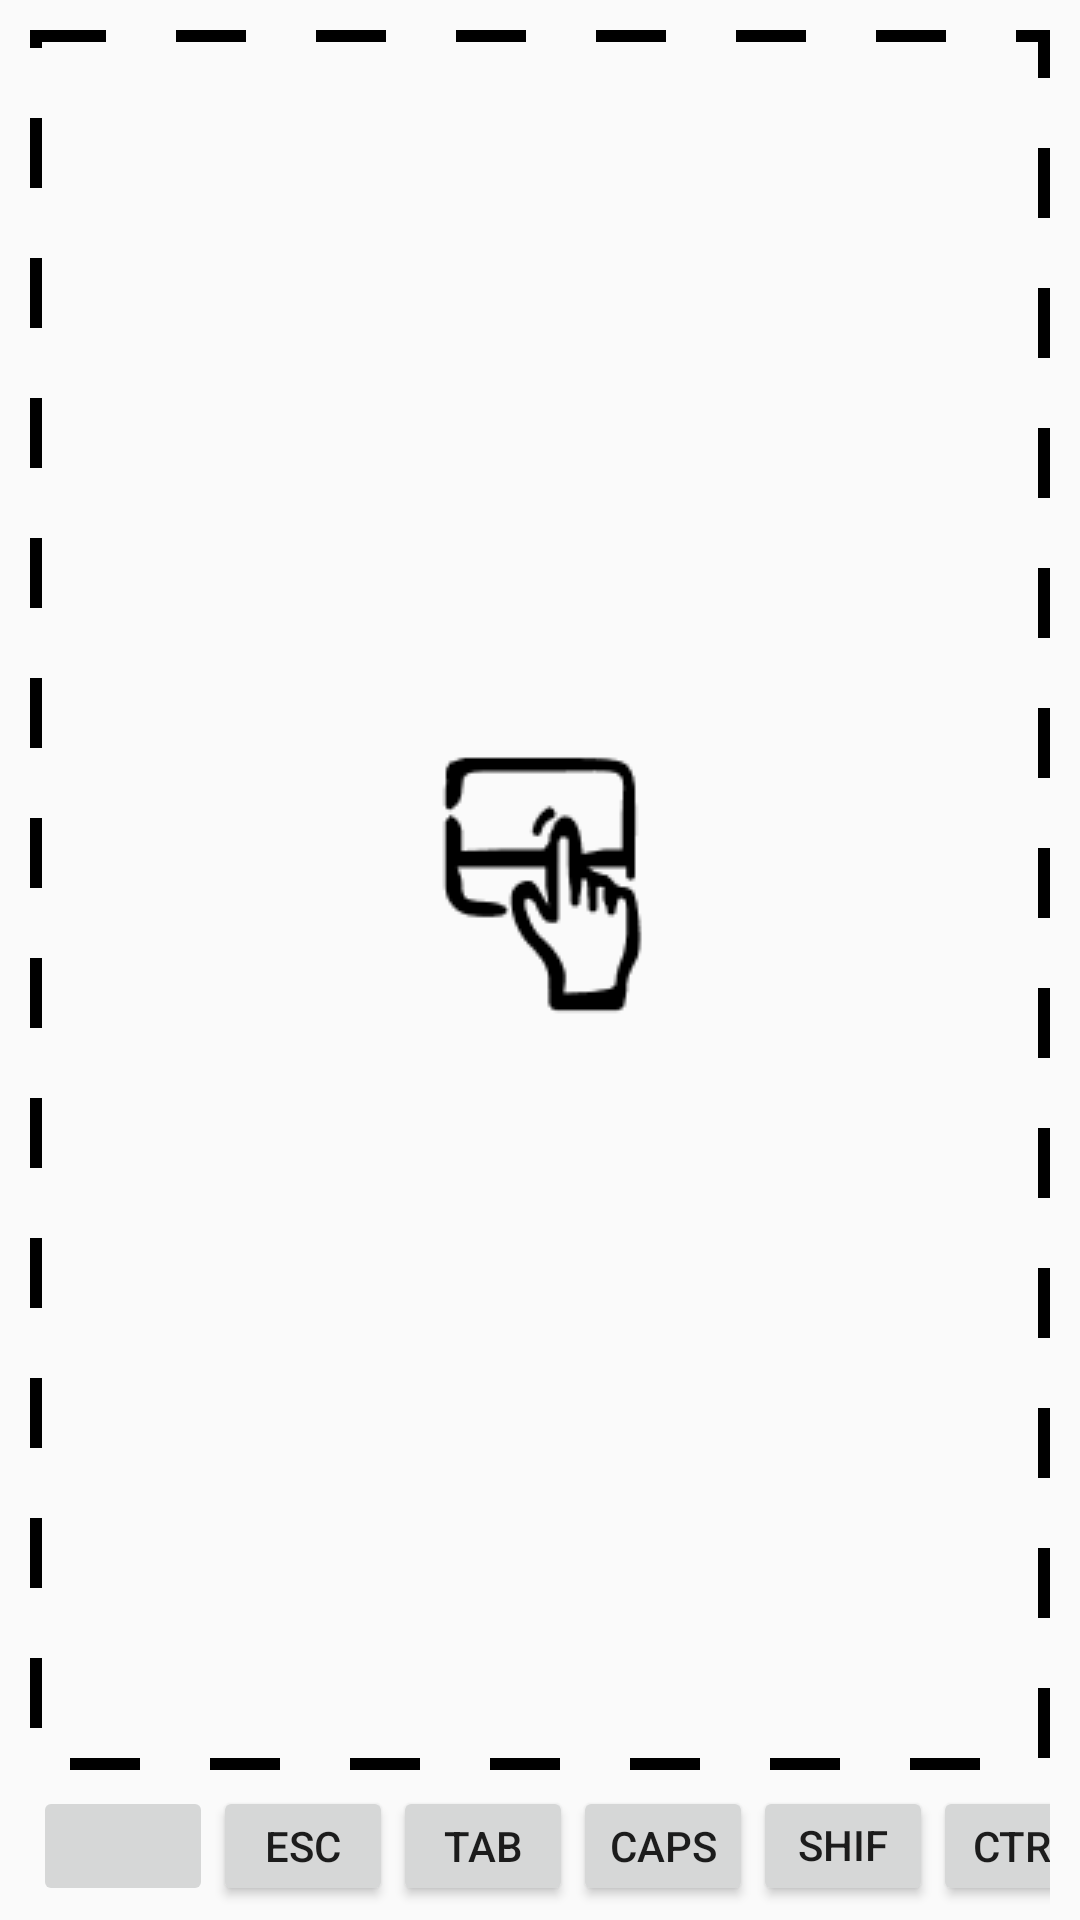

Point at icon controls on the screen. Image size 1080*1920, points as (x,y).
touchpad: (542,884)
